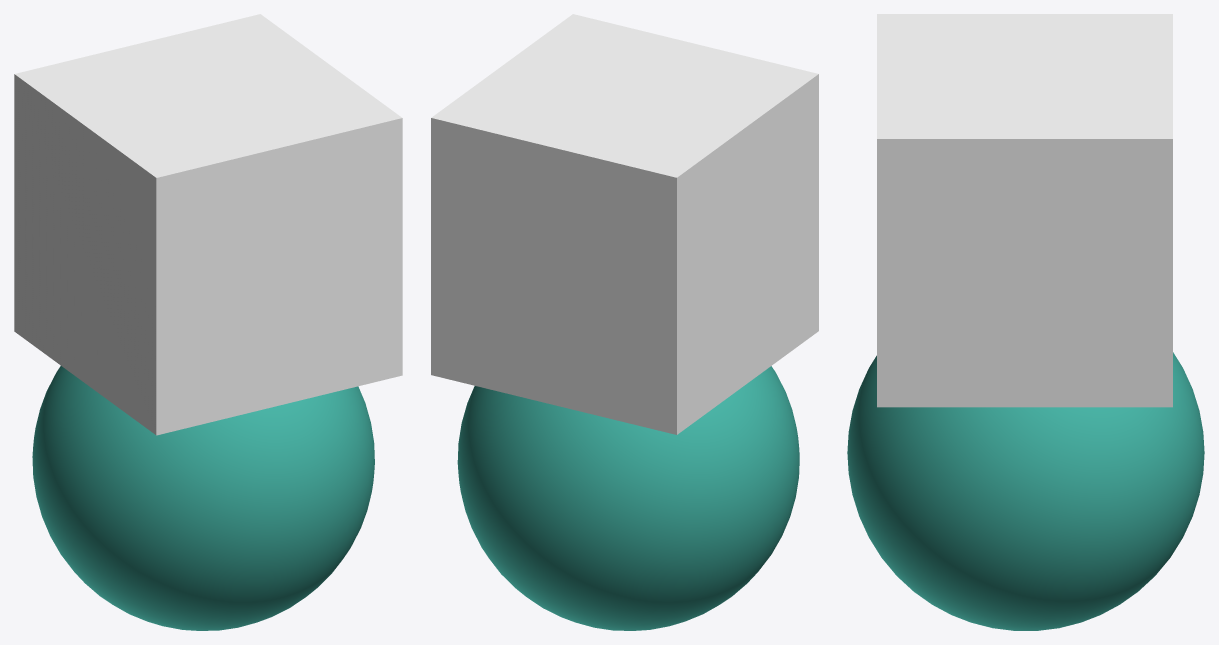
The model's file is sphere_turquoise.glb.
The picture shows the model from 3 angles, left to right: view 1: azimuth 30°, elevation 25°; view 2: azimuth 150°, elevation 25°; view 3: azimuth 270°, elevation 25°; orthographic projection. The views are drawn at different scales.
Parts seen in each view (by area): view 1: placeholder, GeoSphere001; view 2: placeholder, GeoSphere001; view 3: placeholder, GeoSphere001.
Boxes of the visible parts, left/top/right/bottom form: placeholder: left=14, top=14, right=402, bottom=435; GeoSphere001: left=32, top=366, right=374, bottom=630; placeholder: left=431, top=14, right=818, bottom=434; GeoSphere001: left=457, top=366, right=799, bottom=630; placeholder: left=877, top=14, right=1172, bottom=407; GeoSphere001: left=847, top=352, right=1204, bottom=630.
Size of the model in its own units: 2.31 by 3.86 by 2.31.
